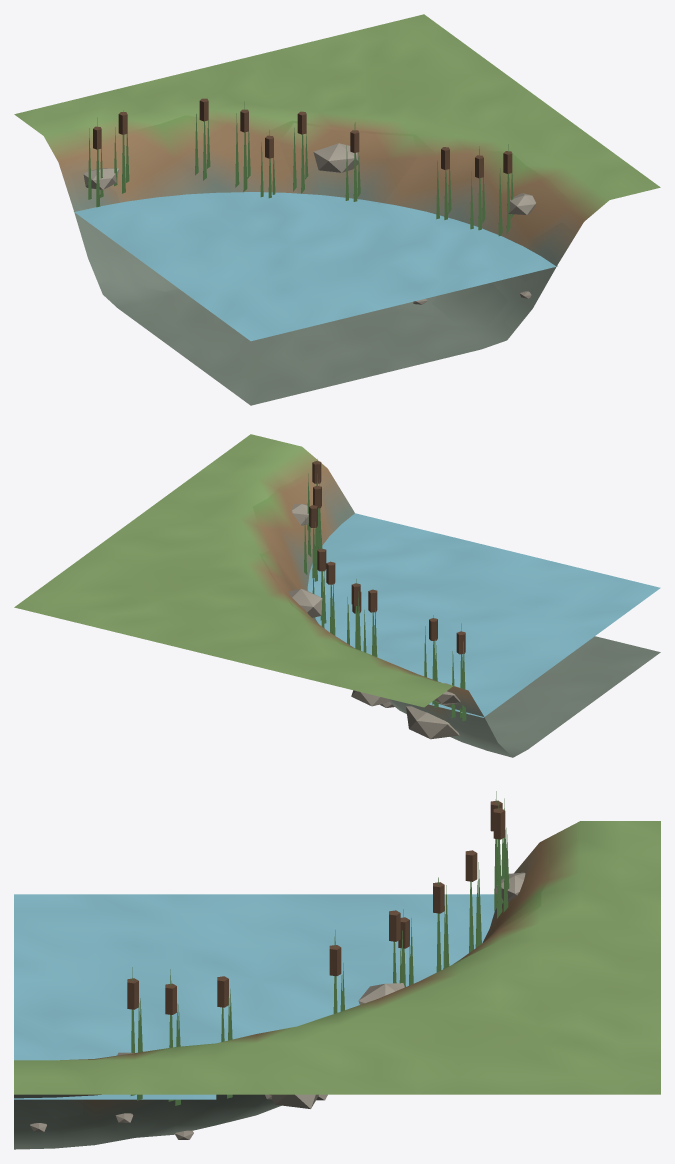
The model's file is bank.curve_outer.glb.
3 renders of one model, top to bottom at view 1: azimuth 30°, elevation 25°; view 2: azimuth 150°, elevation 25°; view 3: azimuth 270°, elevation 25°, orthographic. The views are drawn at different scales.
Parts seen in each view (by area): view 1: bank.curve_outer.v0.land, bank.curve_outer.v1.land, bank.curve_outer.v0.water, bank.curve_outer.v2.land; view 2: bank.curve_outer.v0.land, bank.curve_outer.v0.water, bank.curve_outer.v1.land, bank.curve_outer.v2.land; view 3: bank.curve_outer.v0.land, bank.curve_outer.v0.water, bank.curve_outer.v1.land, bank.curve_outer.v2.land.
Boxes of the visible parts, x1=… form: bank.curve_outer.v0.land: x1=14, y1=14, x2=660, y2=330; bank.curve_outer.v1.land: x1=55, y1=98, x2=589, y2=405; bank.curve_outer.v0.water: x1=73, y1=192, x2=557, y2=341; bank.curve_outer.v2.land: x1=83, y1=143, x2=535, y2=214; bank.curve_outer.v0.land: x1=14, y1=434, x2=512, y2=757; bank.curve_outer.v0.water: x1=307, y1=513, x2=660, y2=717; bank.curve_outer.v1.land: x1=253, y1=459, x2=660, y2=757; bank.curve_outer.v2.land: x1=288, y1=504, x2=460, y2=739; bank.curve_outer.v0.land: x1=14, y1=821, x2=660, y2=1149; bank.curve_outer.v0.water: x1=14, y1=894, x2=494, y2=1099; bank.curve_outer.v1.land: x1=14, y1=791, x2=549, y2=1147; bank.curve_outer.v2.land: x1=117, y1=872, x2=525, y2=1108.
Bounding box in the file's own units: 2 × 0.7423 × 2.
